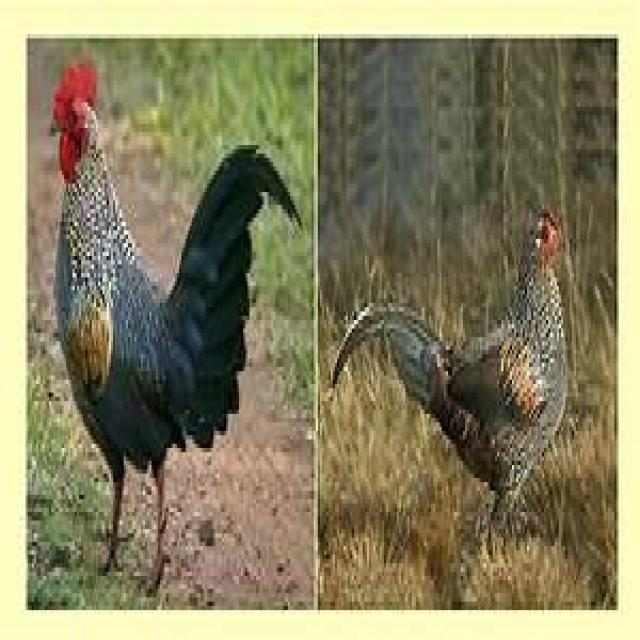hen: (53, 64, 301, 555), (361, 213, 574, 521)
